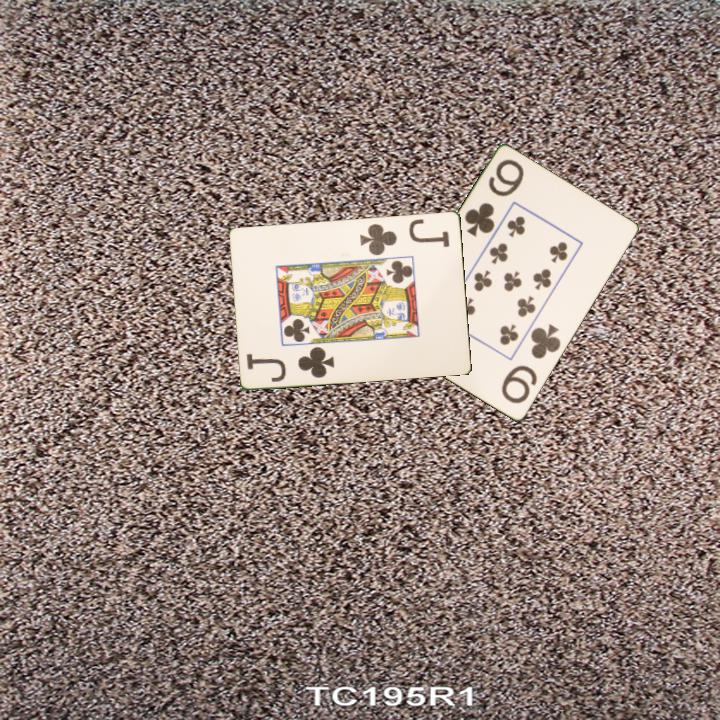9c: (498, 320, 564, 407), (461, 156, 527, 240)
Jc: (357, 215, 452, 258), (243, 343, 337, 384)
